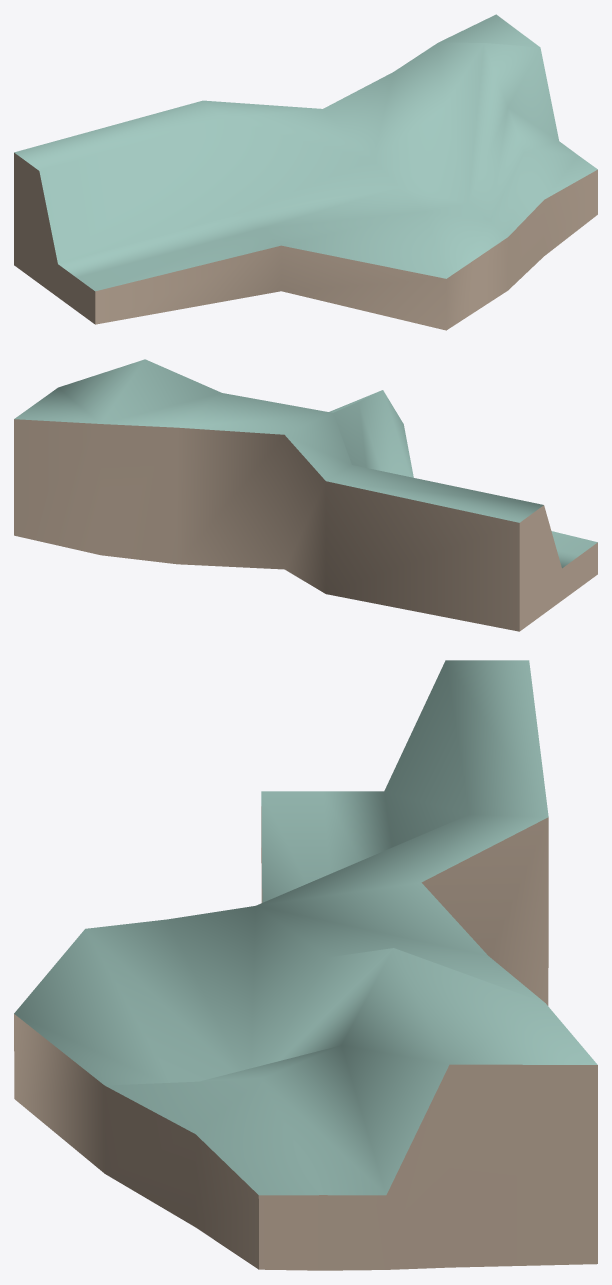
File: englishChannelLeftside.fbx
The picture shows the model from 3 angles, top to bottom: view 1: azimuth 30°, elevation 25°; view 2: azimuth 150°, elevation 25°; view 3: azimuth 270°, elevation 25°; orthographic projection. The views are drawn at different scales.
Visible parts, largest first — view 1: pCube3; view 2: pCube3; view 3: pCube3.
Part boxes in pixels (bbox=[...]): pCube3: bbox=[14, 14, 597, 330]; pCube3: bbox=[14, 359, 597, 631]; pCube3: bbox=[14, 660, 597, 1270].
Size of the model in its own units: 87.74 by 30.16 by 53.48.
